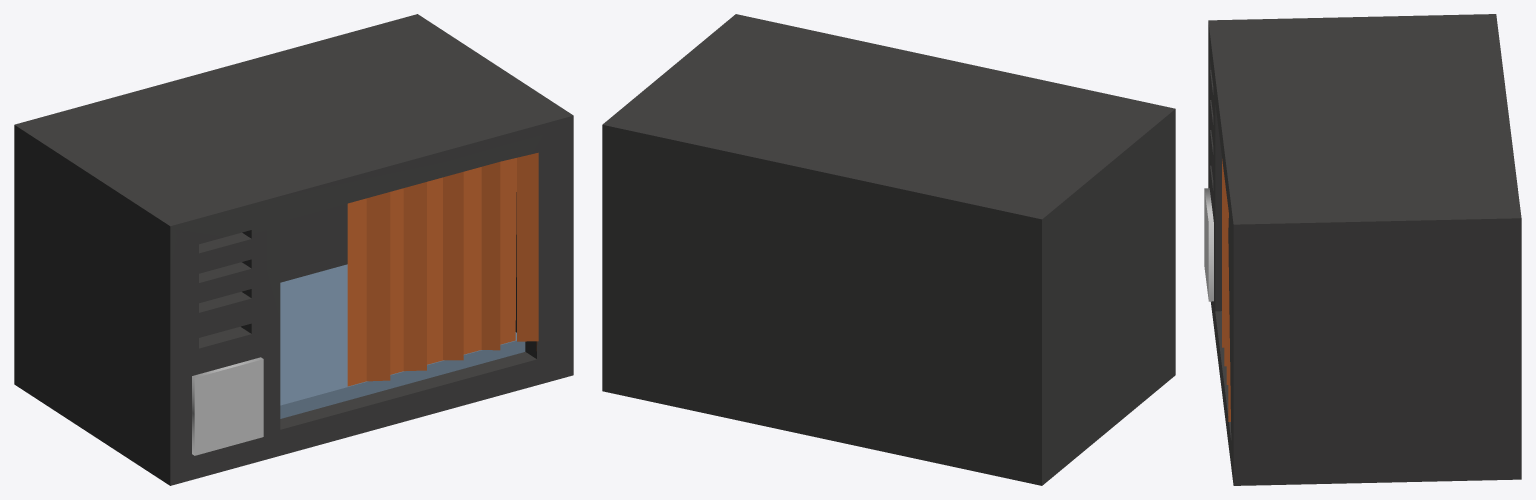
The model's file is bunk_bed.fbx.
3 renders of one model, left to right at view 1: azimuth 30°, elevation 25°; view 2: azimuth 150°, elevation 25°; view 3: azimuth 270°, elevation 25°, orthographic. The views are drawn at different scales.
Visible parts, largest first — view 1: bunck_bed1; view 2: bunck_bed1; view 3: bunck_bed1.
Part boxes in pixels (x1,y1,x2,y2): bunck_bed1: (14, 14, 573, 485); bunck_bed1: (602, 14, 1175, 485); bunck_bed1: (1204, 14, 1521, 485).
Size of the model in its own units: 183 by 106 by 116.
